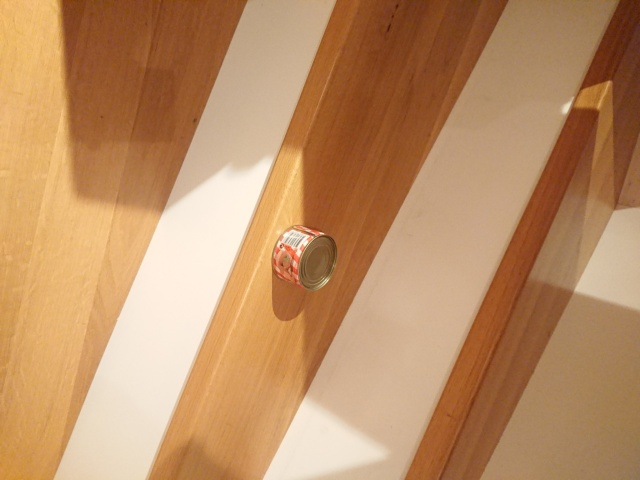Podravka Luncheon Meat 150g: (268, 222, 340, 293)
